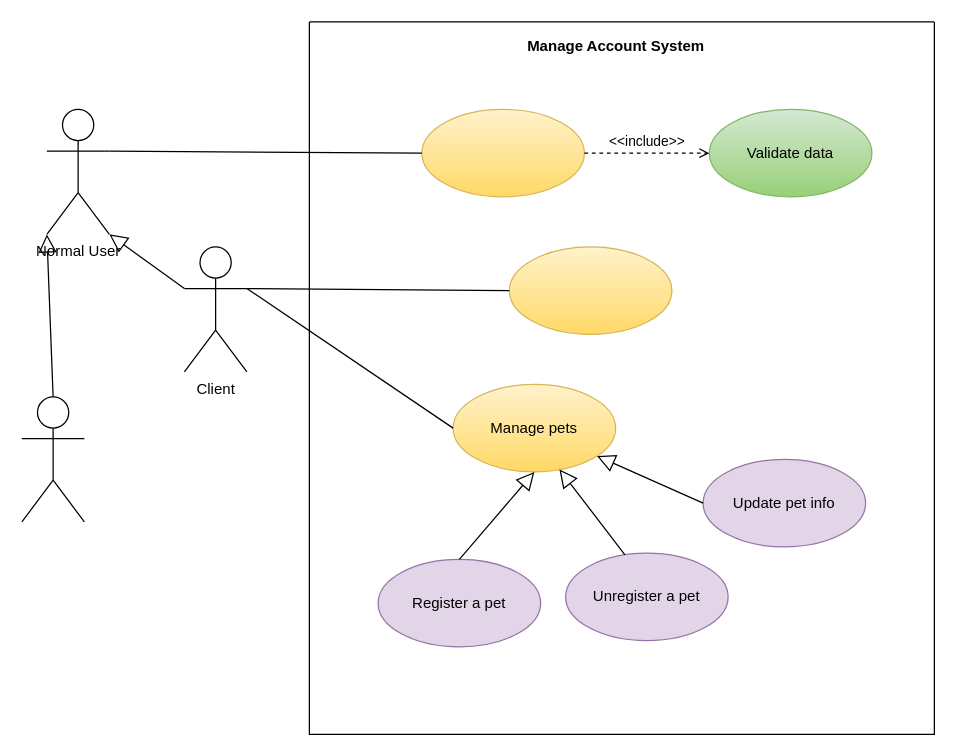
The diagram is 956 pixels wide and 756 high, and some of its shapes have lost their labels. Here are the shapes that lost their labels. From the top down, the box of each, then its label:
(421, 108, 584, 197): Update personal info
(508, 246, 672, 334): Delete account
(21, 396, 84, 522): Staff
